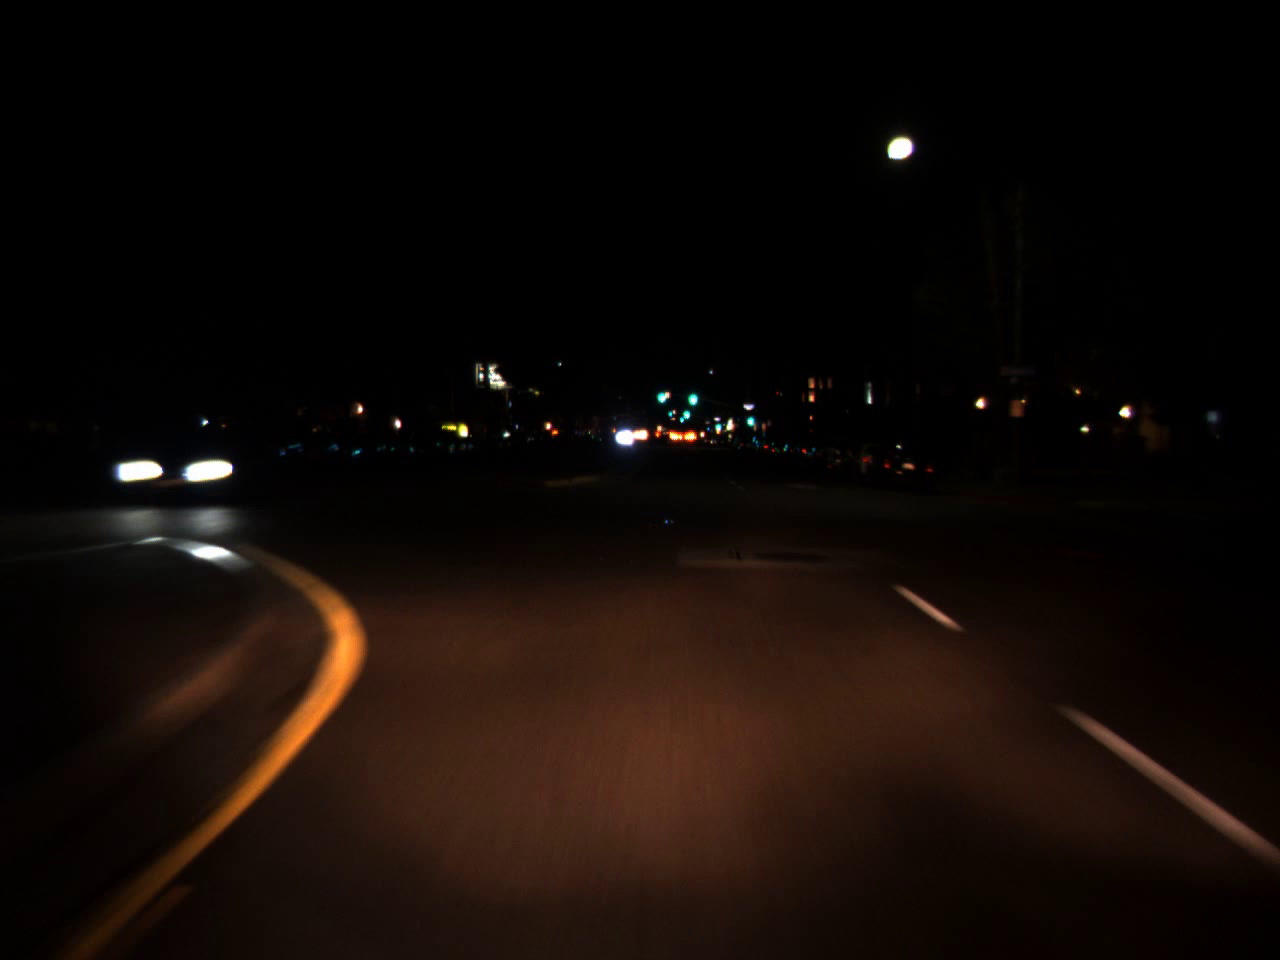go: (654, 383, 666, 404), (686, 386, 698, 407), (681, 399, 691, 423), (745, 410, 754, 428), (666, 402, 673, 420), (713, 418, 722, 430)
